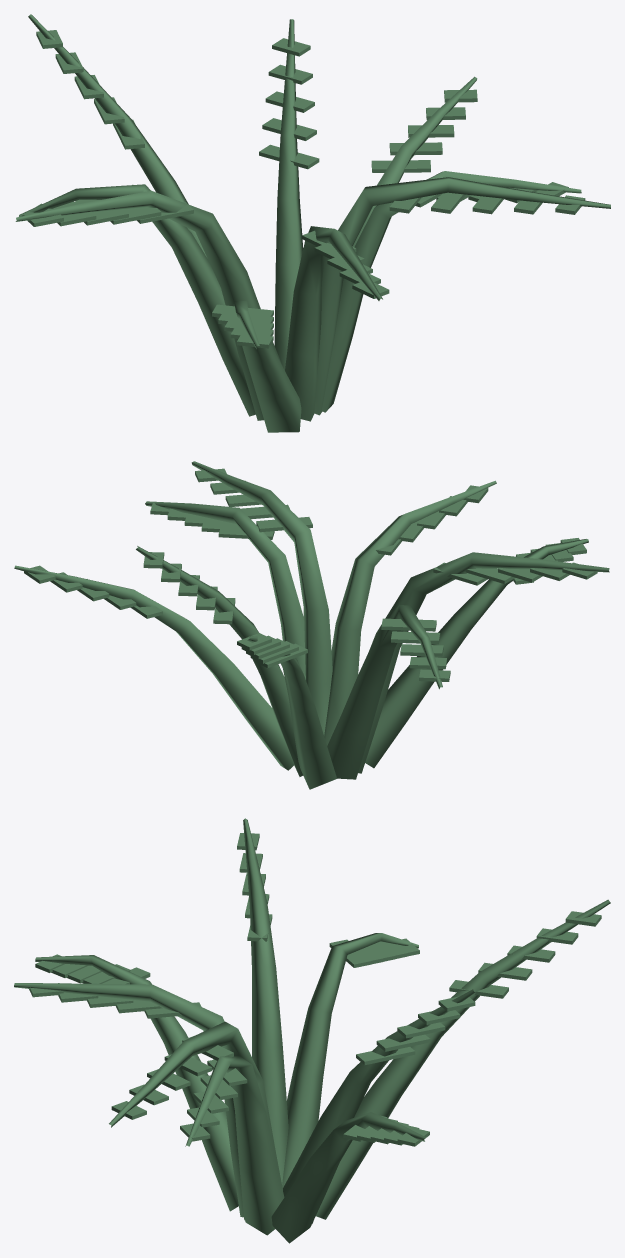
The model's file is fern.glb.
The picture shows the model from 3 angles, top to bottom: view 1: azimuth 30°, elevation 25°; view 2: azimuth 150°, elevation 25°; view 3: azimuth 270°, elevation 25°; orthographic projection. The views are drawn at different scales.
Parts seen in each view (by area): view 1: fern-cluster; view 2: fern-cluster; view 3: fern-cluster.
Part boxes in pixels (bbox=[...]): fern-cluster: bbox=[15, 14, 610, 432]; fern-cluster: bbox=[14, 461, 609, 789]; fern-cluster: bbox=[14, 818, 610, 1243].
Size of the model in its own units: 1.57 by 0.7956 by 1.52.
